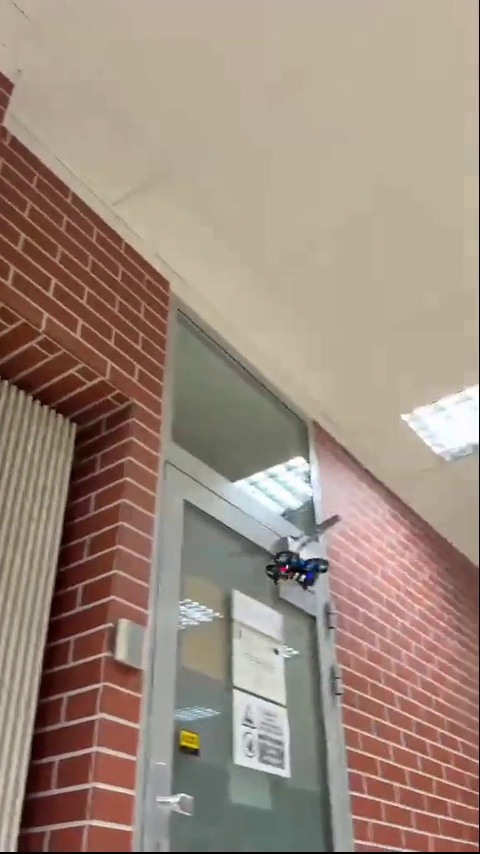drone: (268, 553, 330, 595)
